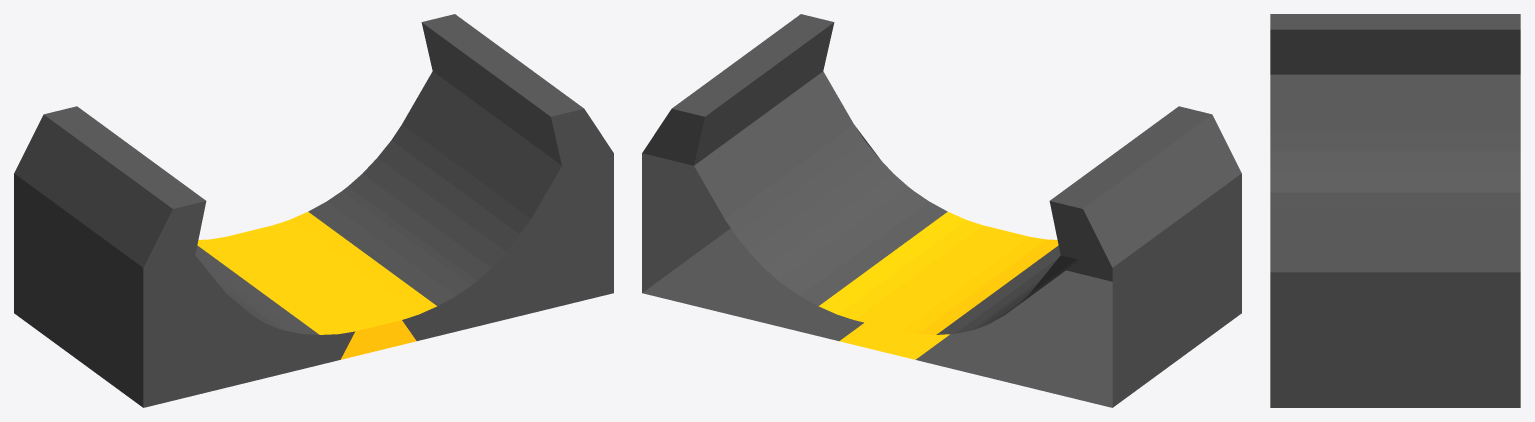
File: Spline_Slip_Closed_3.fbx
3 views of the same model, side by side, from view 1: azimuth 30°, elevation 25°; view 2: azimuth 150°, elevation 25°; view 3: azimuth 270°, elevation 25° (orthographic). The views are drawn at different scales.
Visible parts, largest first — view 1: Spline_Slip_Closed 3; view 2: Spline_Slip_Closed 3; view 3: Spline_Slip_Closed 3.
Part boxes in pixels (<box>): Spline_Slip_Closed 3: <box>14,14,613,407</box>; Spline_Slip_Closed 3: <box>642,14,1241,407</box>; Spline_Slip_Closed 3: <box>1270,14,1520,407</box>.
Size of the model in its own units: 2100 by 818 by 1000.
